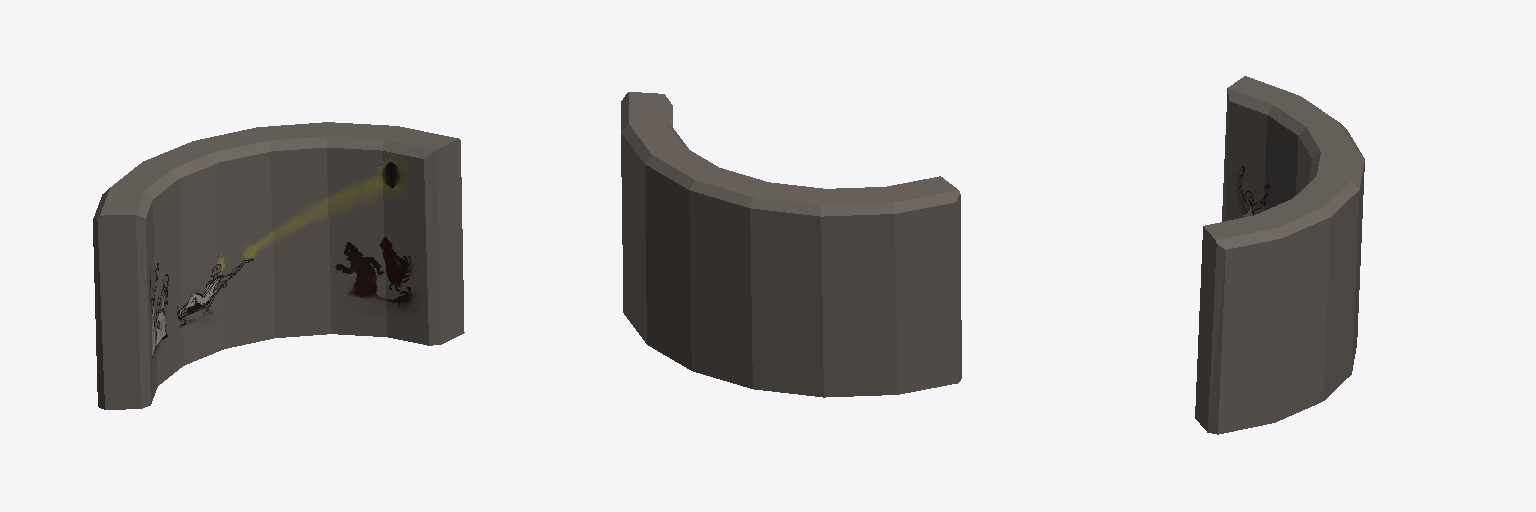
The picture shows the model from 3 angles: view 1: azimuth 30°, elevation 25°; view 2: azimuth 150°, elevation 25°; view 3: azimuth 270°, elevation 25°; orthographic projection.
Visible parts, largest first — view 1: LearningArch; view 2: LearningArch; view 3: LearningArch.
Part boxes in pixels (bbox=[...]): LearningArch: bbox=[93, 122, 464, 409]; LearningArch: bbox=[621, 92, 961, 397]; LearningArch: bbox=[1195, 76, 1364, 434].
Size of the model in its own units: 12.23 by 6.61 by 5.13.
Materials: 1 (1 with a texture image).